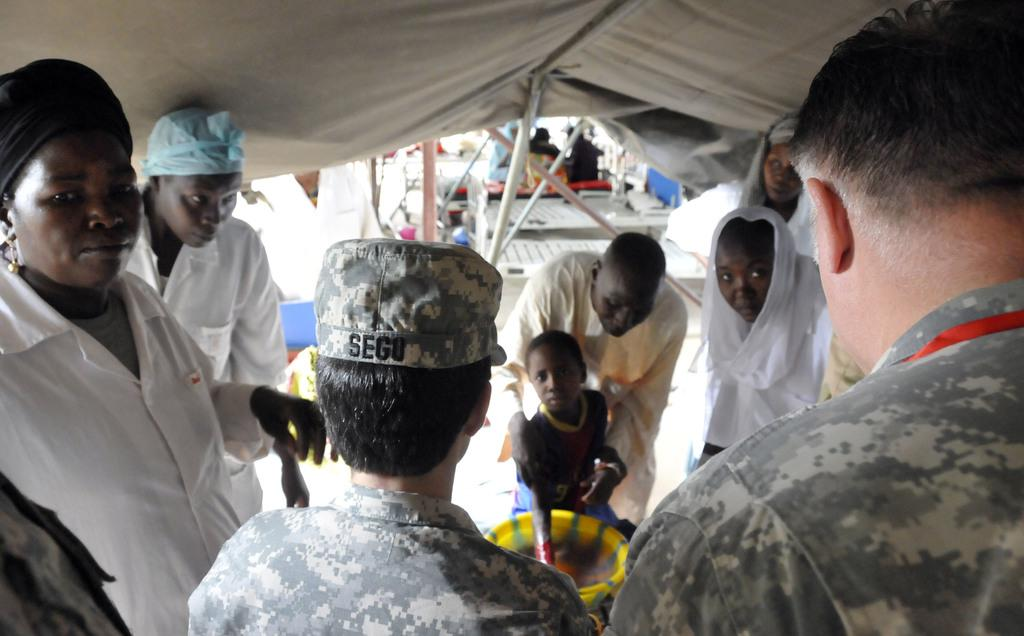Hat: (310, 238, 504, 373)
